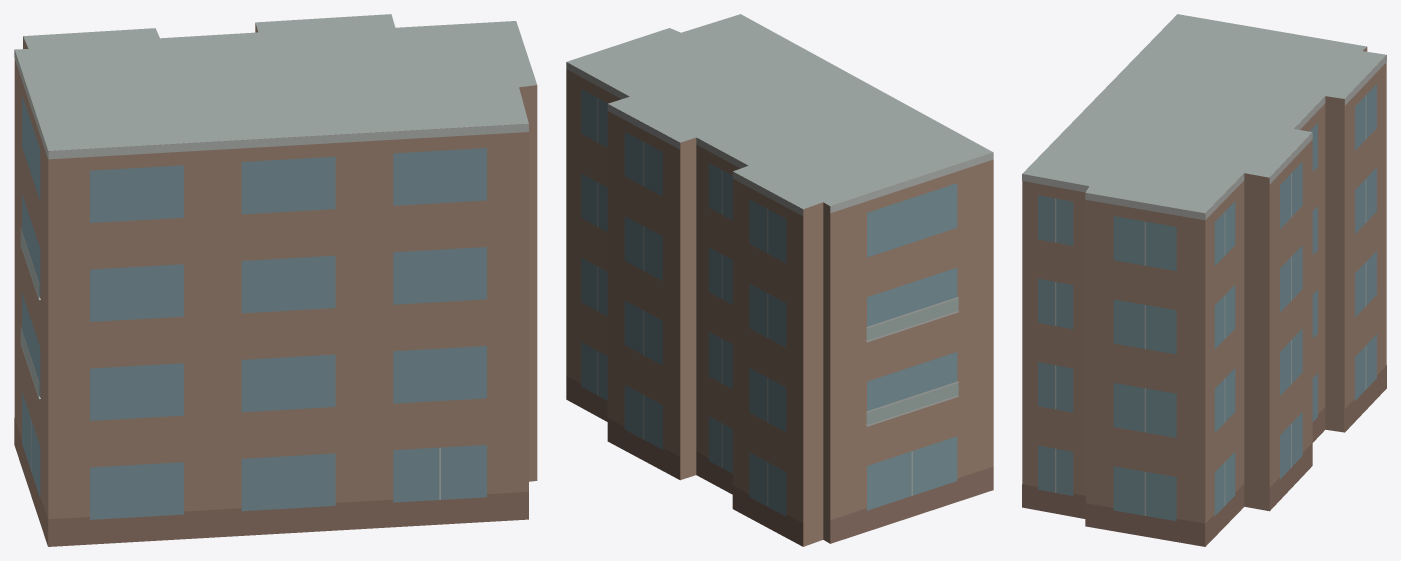
The model's file is survey-upis-32566452.glb.
The picture shows the model from 3 angles, left to right: view 1: azimuth 30°, elevation 25°; view 2: azimuth 150°, elevation 25°; view 3: azimuth 270°, elevation 25°; orthographic projection. The views are drawn at different scales.
Visible parts, largest first — view 1: survey-upis-32566452.tmp; view 2: survey-upis-32566452.tmp; view 3: survey-upis-32566452.tmp.
Part boxes in pixels (bbox=[...]): survey-upis-32566452.tmp: bbox=[14, 14, 537, 546]; survey-upis-32566452.tmp: bbox=[566, 14, 993, 546]; survey-upis-32566452.tmp: bbox=[1022, 14, 1386, 546].
Size of the model in its own units: 14.87 by 11.6 by 11.5.
